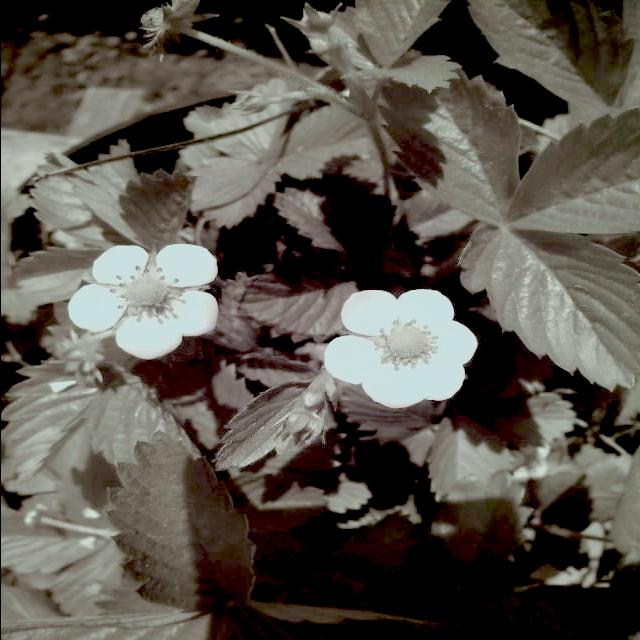flower: (317, 286, 482, 415), (64, 240, 222, 362)
